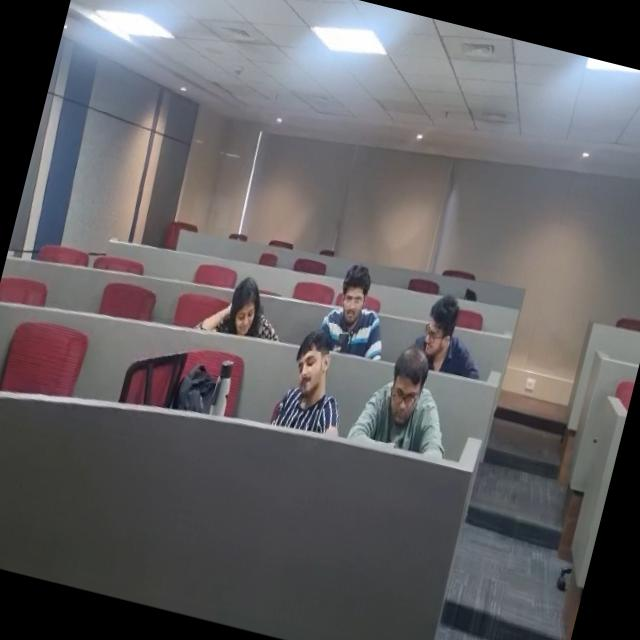cheating: (312, 247, 406, 362), (188, 266, 284, 348), (410, 287, 490, 373)
non-cheating: (349, 342, 452, 461), (267, 319, 348, 439)
